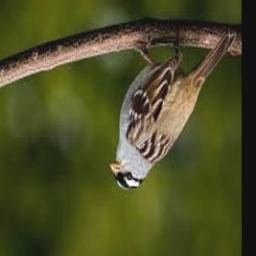Sparrow: (109, 28, 236, 191)
